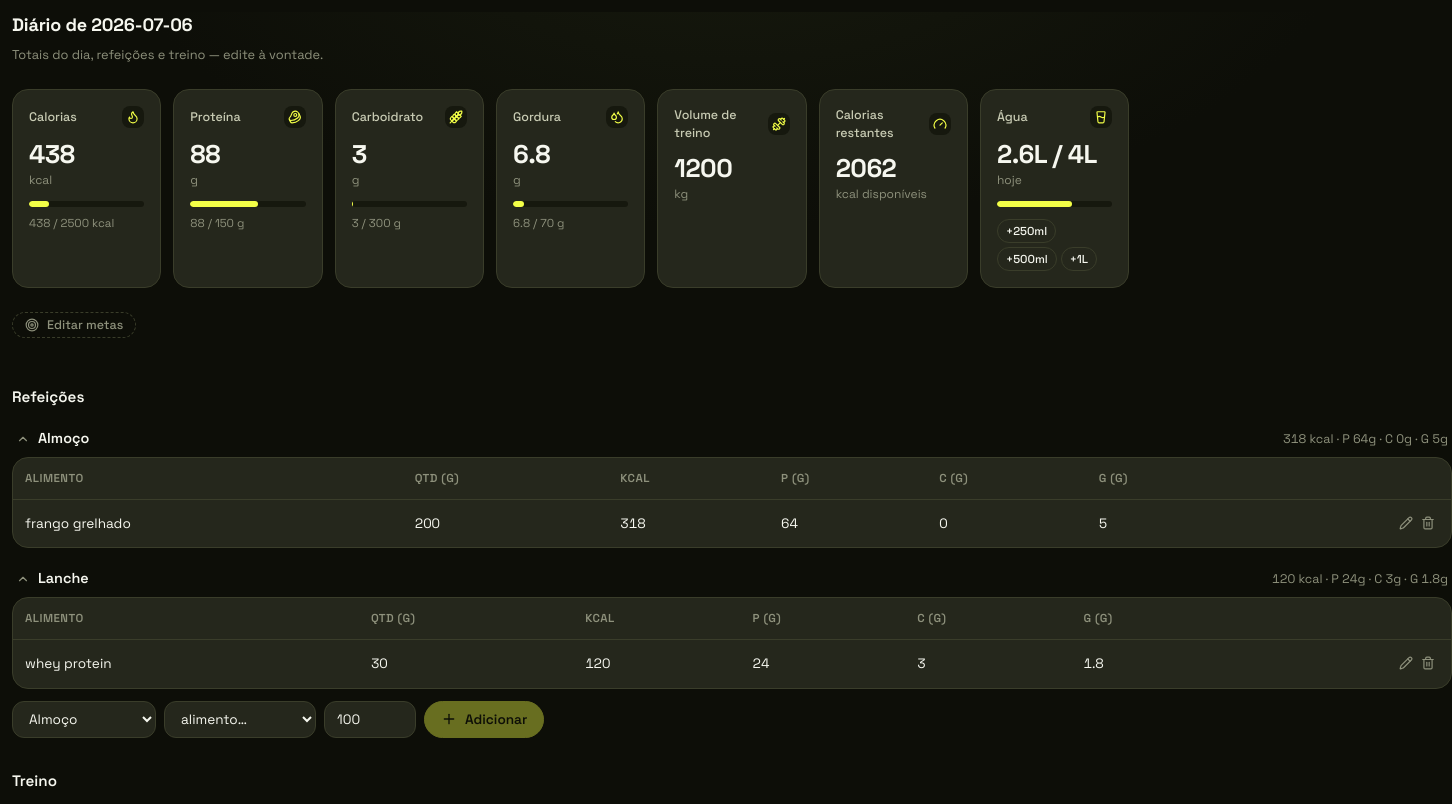
Test: Diario › mostra barras de progresso das metas e permite editá-las
The width and height of the screenshot is (1452, 804).
Expected: the cell "frango grelhado" is shown, [13,500,403,548]
Expected: the number of progress indicators is 5, [29,201,144,207]; [190,201,306,207]; [352,201,467,207]; [513,201,628,207]; [997,201,1112,207]
Click the button labelled "Editar metas" at (74, 325), box [12,312,136,338]
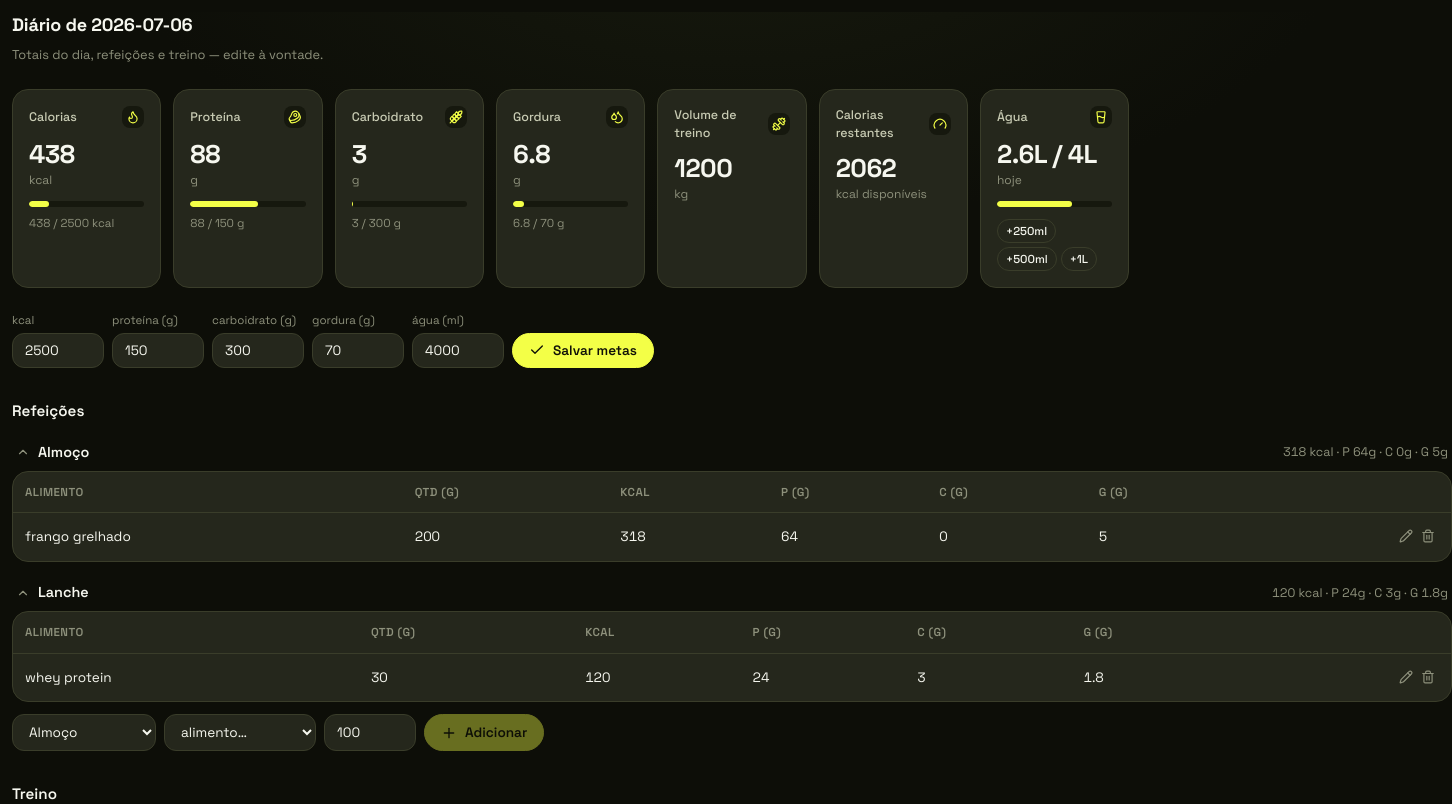
Replace the text in the number field named "meta de calorias" with "3000" at (58, 350), box [12,333,104,368]
Replace the text in the number field named "meta de proteína" with "180" at (158, 350), box [112,333,204,368]
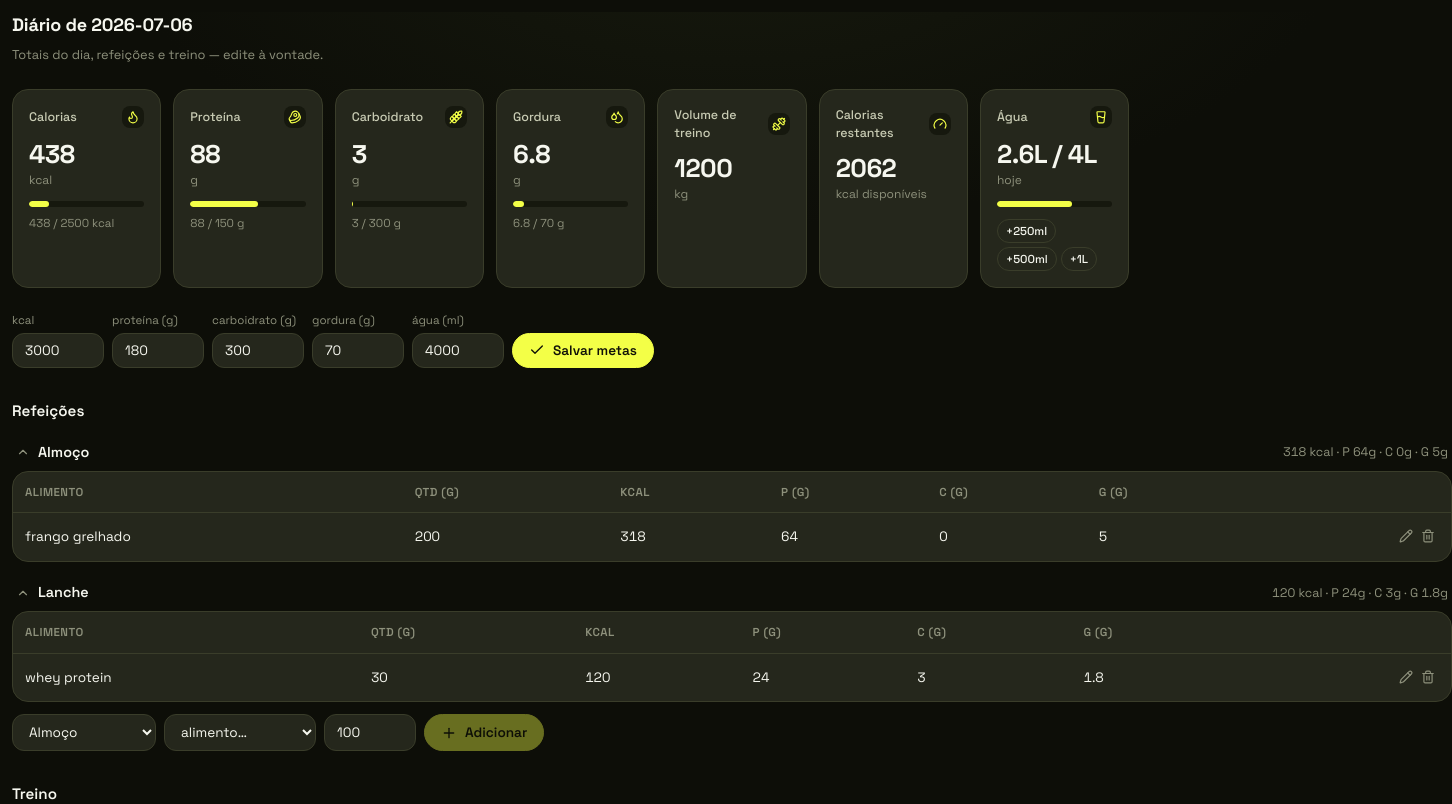
Replace the text in the number field named "meta de carboidrato" with "310" at (258, 350), box [212,333,304,368]
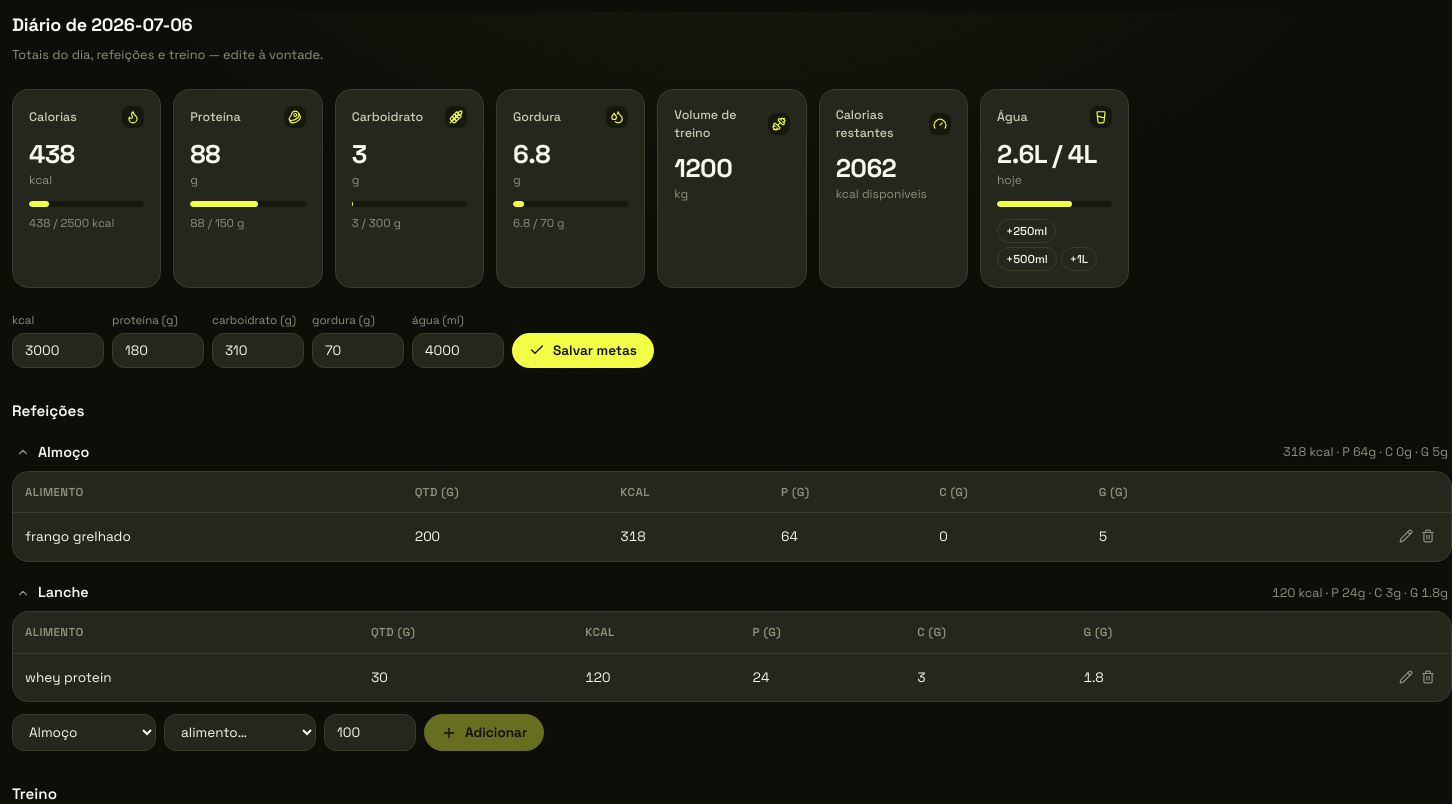
Replace the text in the number field named "meta de gordura" with "75" at (358, 350), box [312,333,404,368]
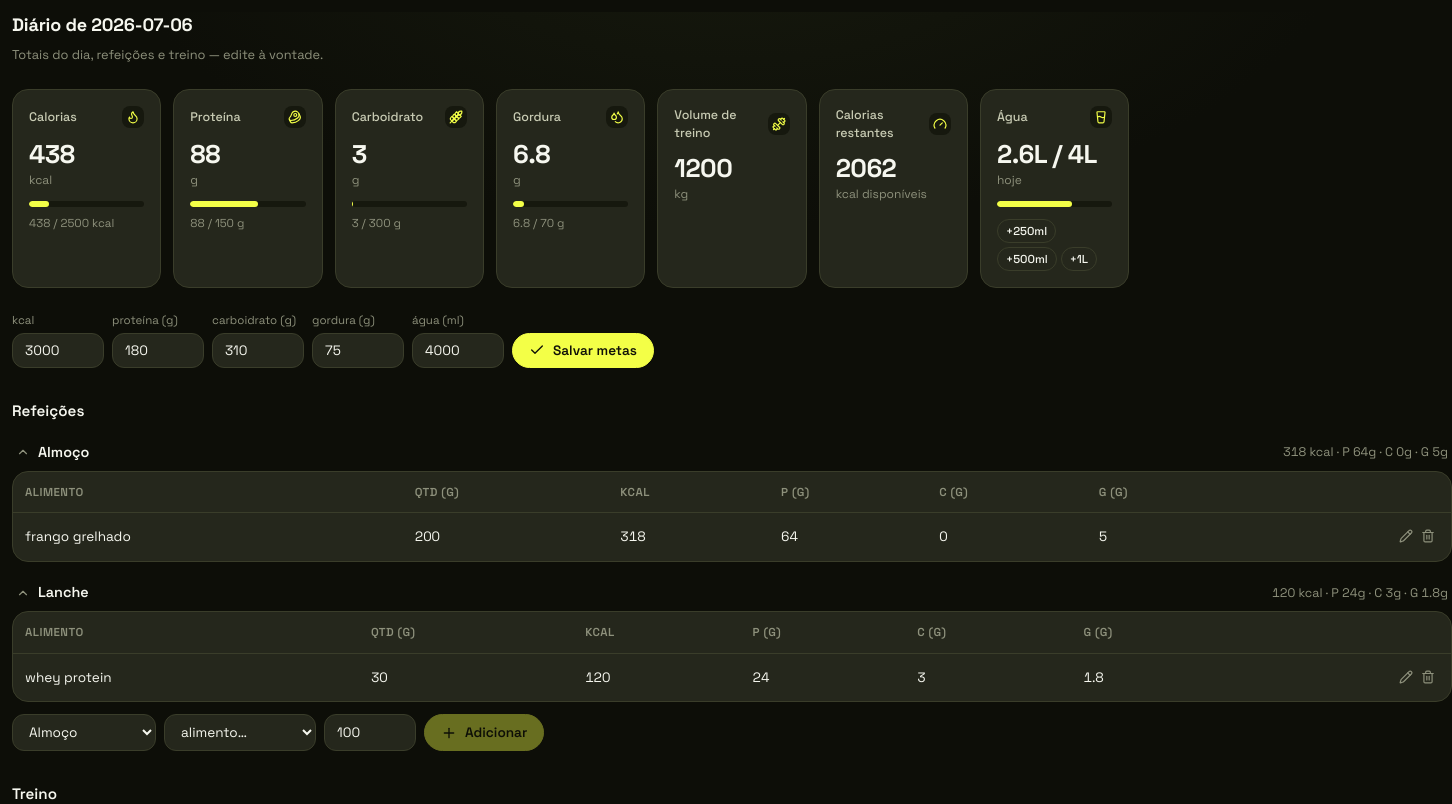
Replace the text in the number field named "meta de água em ml" with "3500" at (458, 350), box [412,333,504,368]
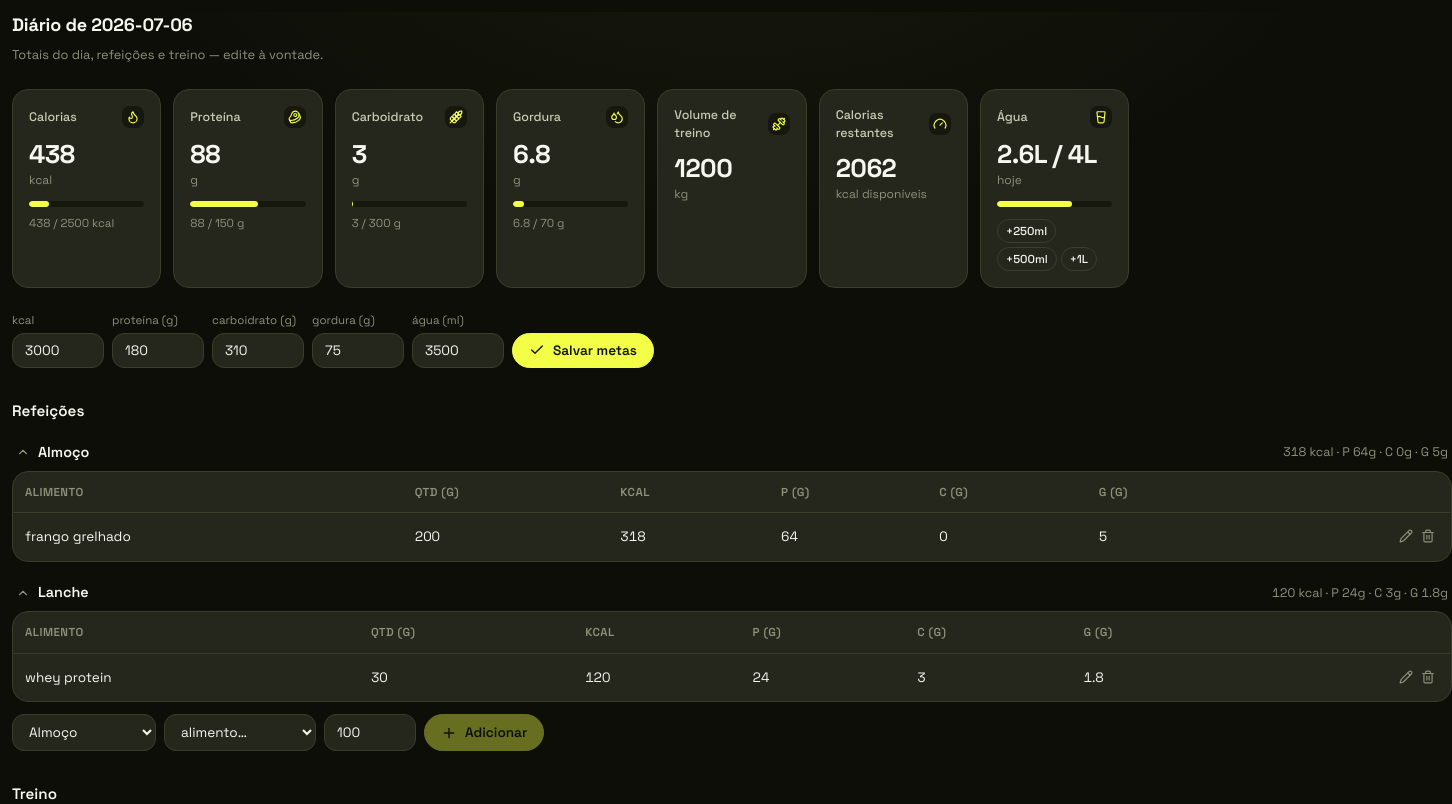
Click the button labelled "Salvar metas" at (583, 350), box [512,333,654,368]
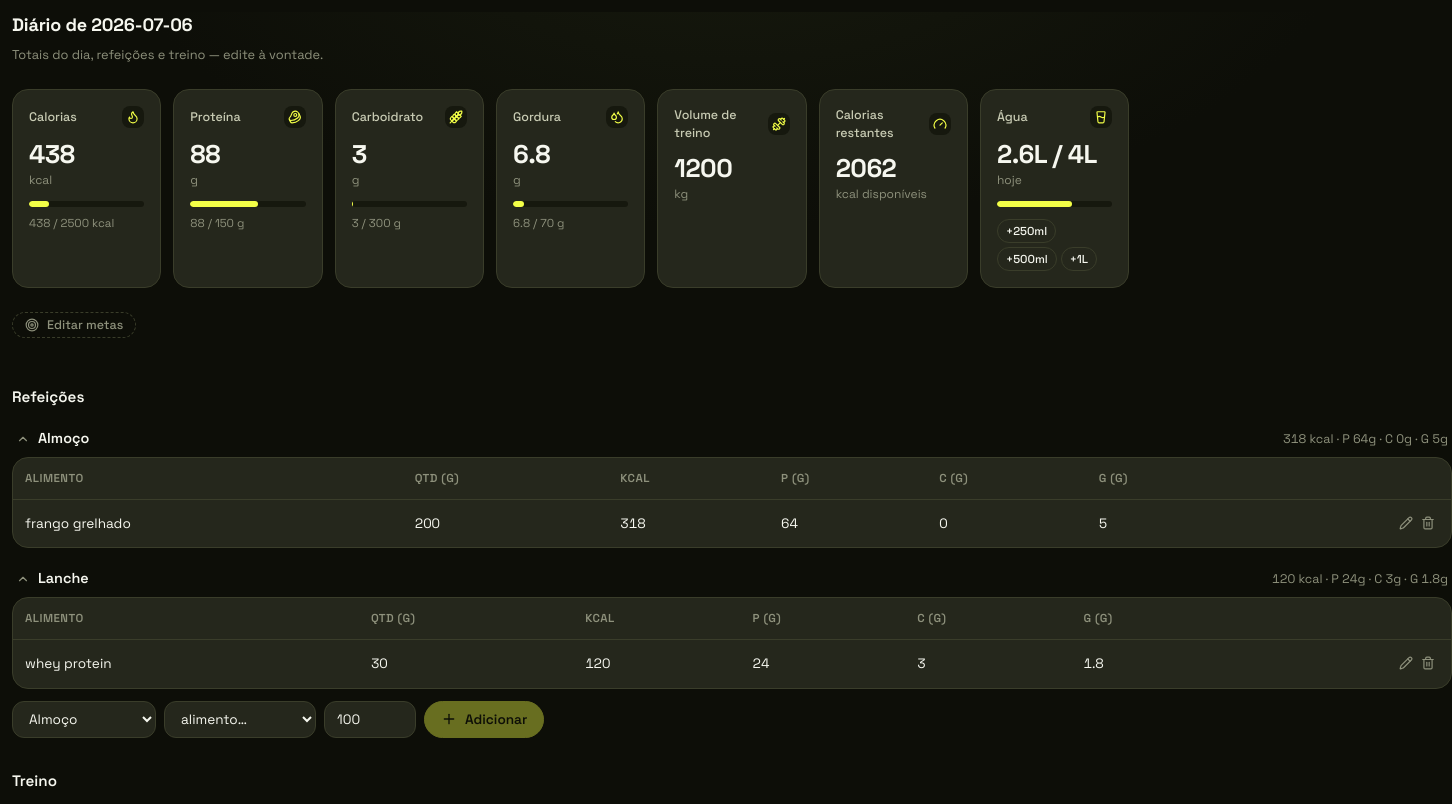
Now the button labelled "Editar metas" is shown, box [12,312,136,338]
